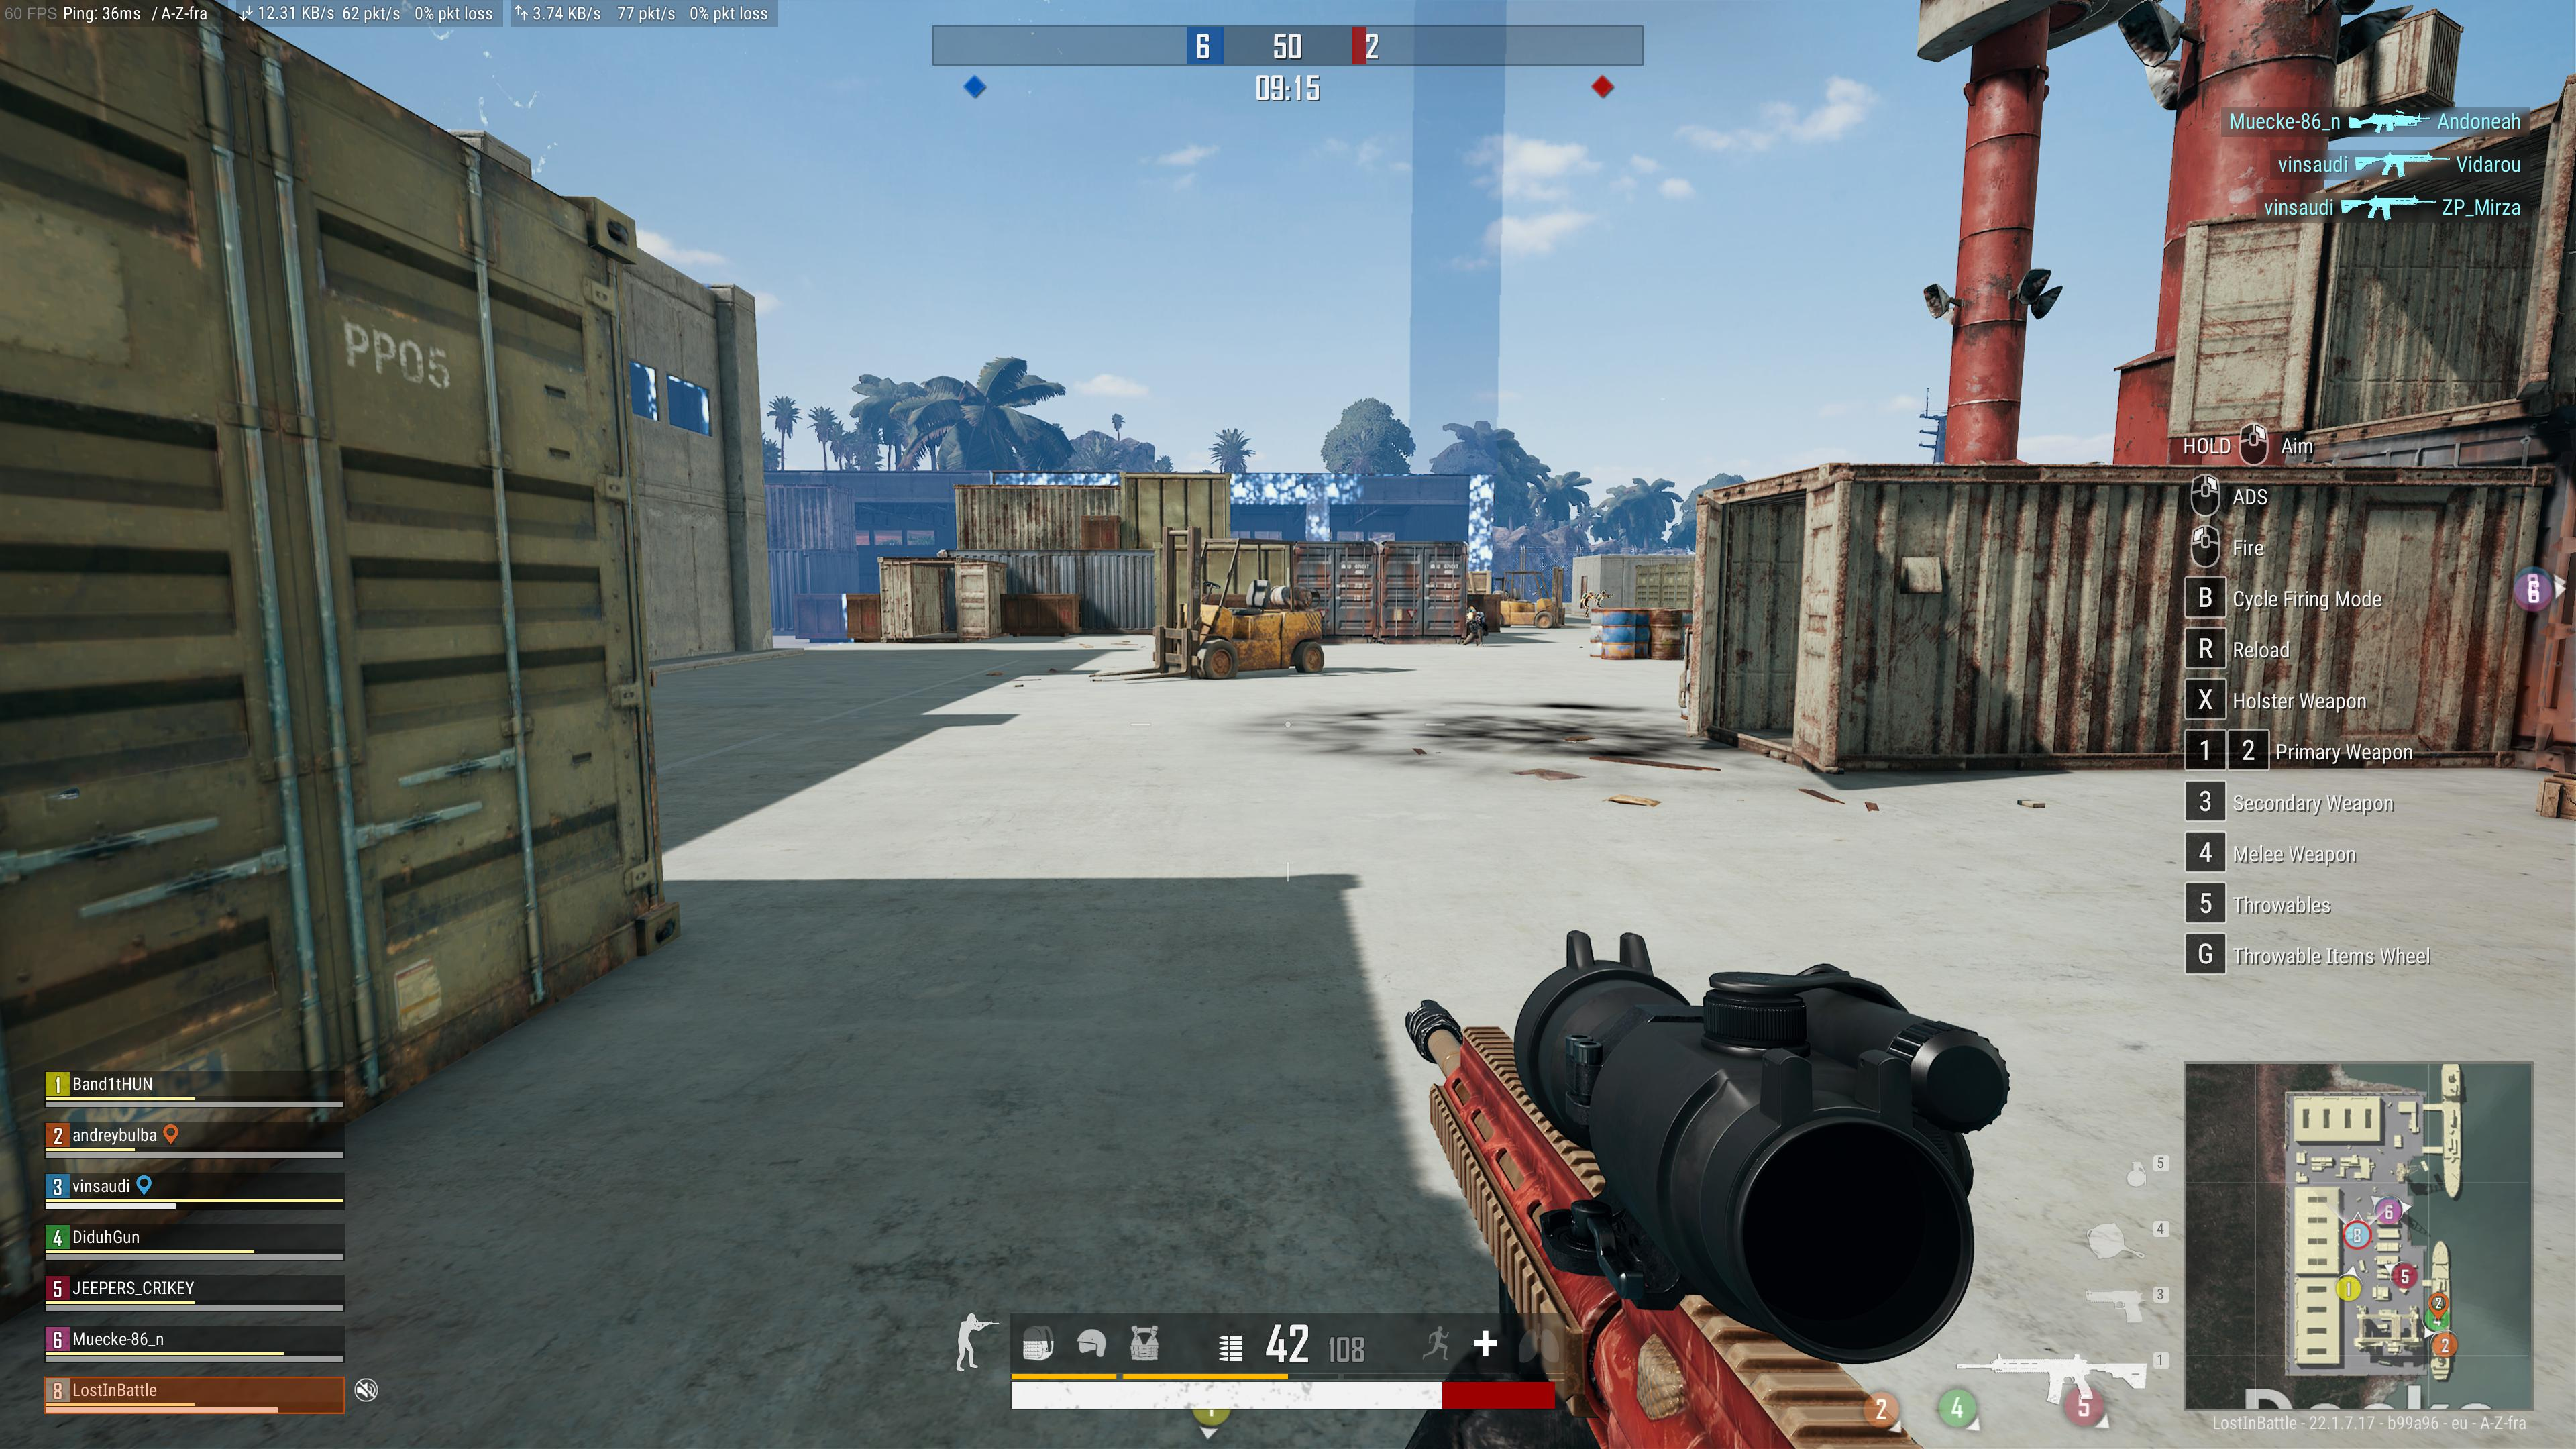enemy: (1461, 605, 1488, 646), (1580, 589, 1594, 619), (1594, 589, 1610, 609)
enemy_head: (1465, 605, 1476, 616), (1589, 589, 1592, 594), (1601, 589, 1605, 594)
